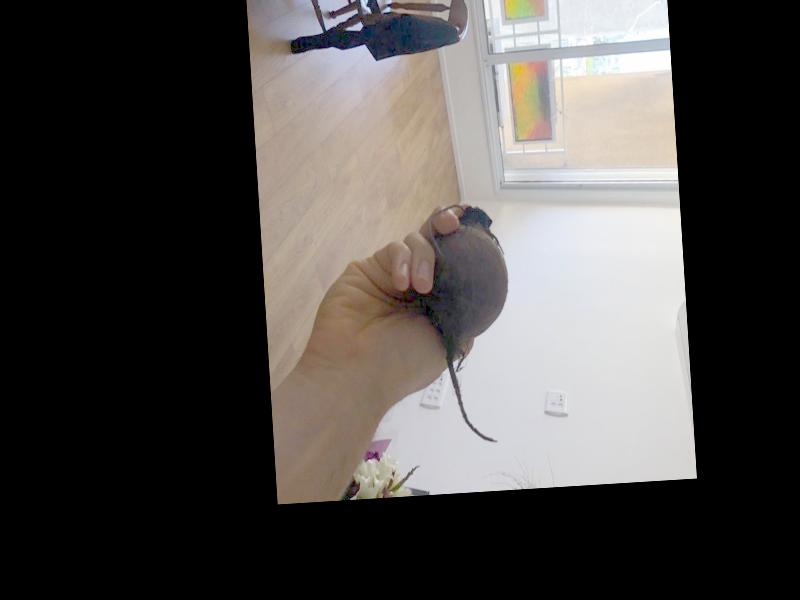Beet: (423, 199, 517, 444)
